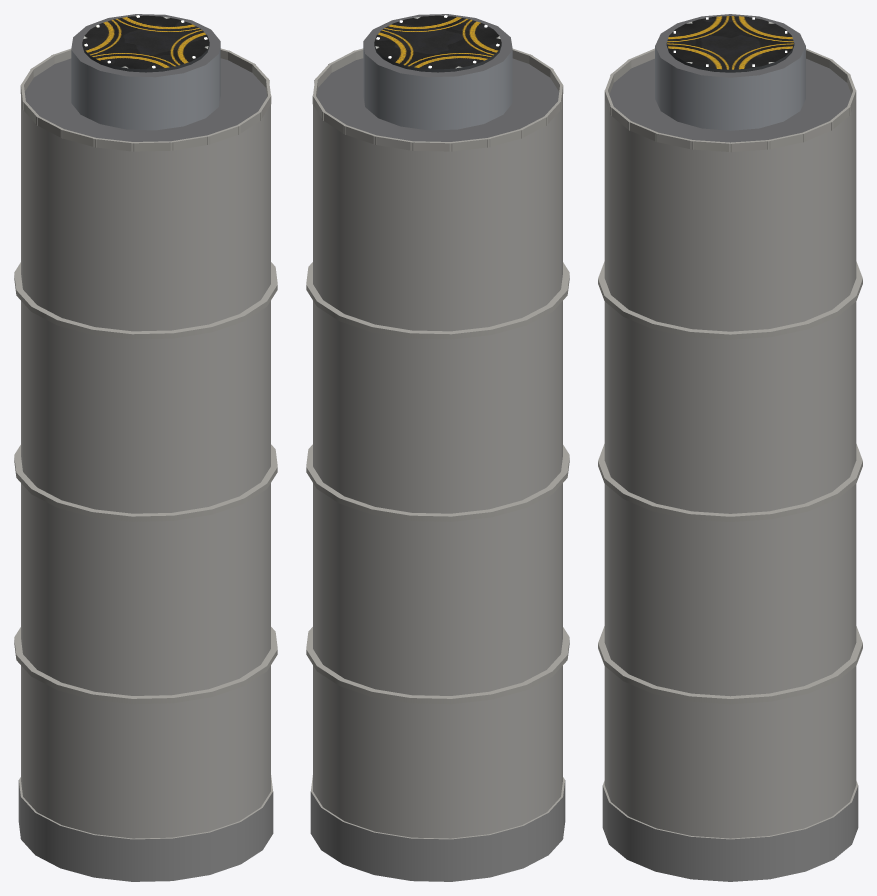
File: building_03.glb
3 views of the same model, side by side, from view 1: azimuth 30°, elevation 25°; view 2: azimuth 150°, elevation 25°; view 3: azimuth 270°, elevation 25° (orthographic).
Parts seen in each view (by area): view 1: Render; view 2: Render; view 3: Render.
Part boxes in pixels (x1,y1,x2,y2): Render: [14, 14, 277, 881]; Render: [306, 14, 569, 881]; Render: [598, 14, 862, 881].
Size of the model in its own units: 31.62 by 104 by 31.62.
8 materials, 1 textured.
